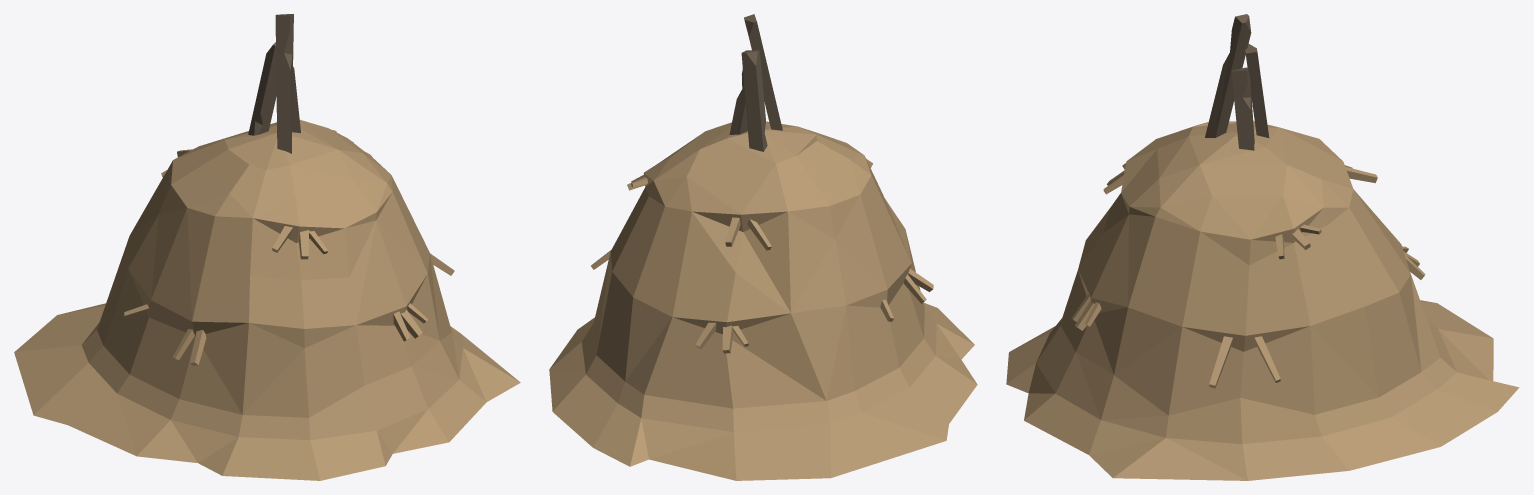
Rendered from prop_hay_pile.gltf.
3 renders of one model, left to right at view 1: azimuth 30°, elevation 25°; view 2: azimuth 150°, elevation 25°; view 3: azimuth 270°, elevation 25°, orthographic. The views are drawn at different scales.
Parts seen in each view (by area): view 1: prop_hay_pile; view 2: prop_hay_pile; view 3: prop_hay_pile.
Boxes of the visible parts, left/top/right/bottom form: prop_hay_pile: left=14, top=14, right=520, bottom=480; prop_hay_pile: left=549, top=14, right=977, bottom=480; prop_hay_pile: left=1006, top=14, right=1519, bottom=480.
Bounding box in the file's own units: 2.91 × 2.51 × 3.11.
1 material, 1 textured.
